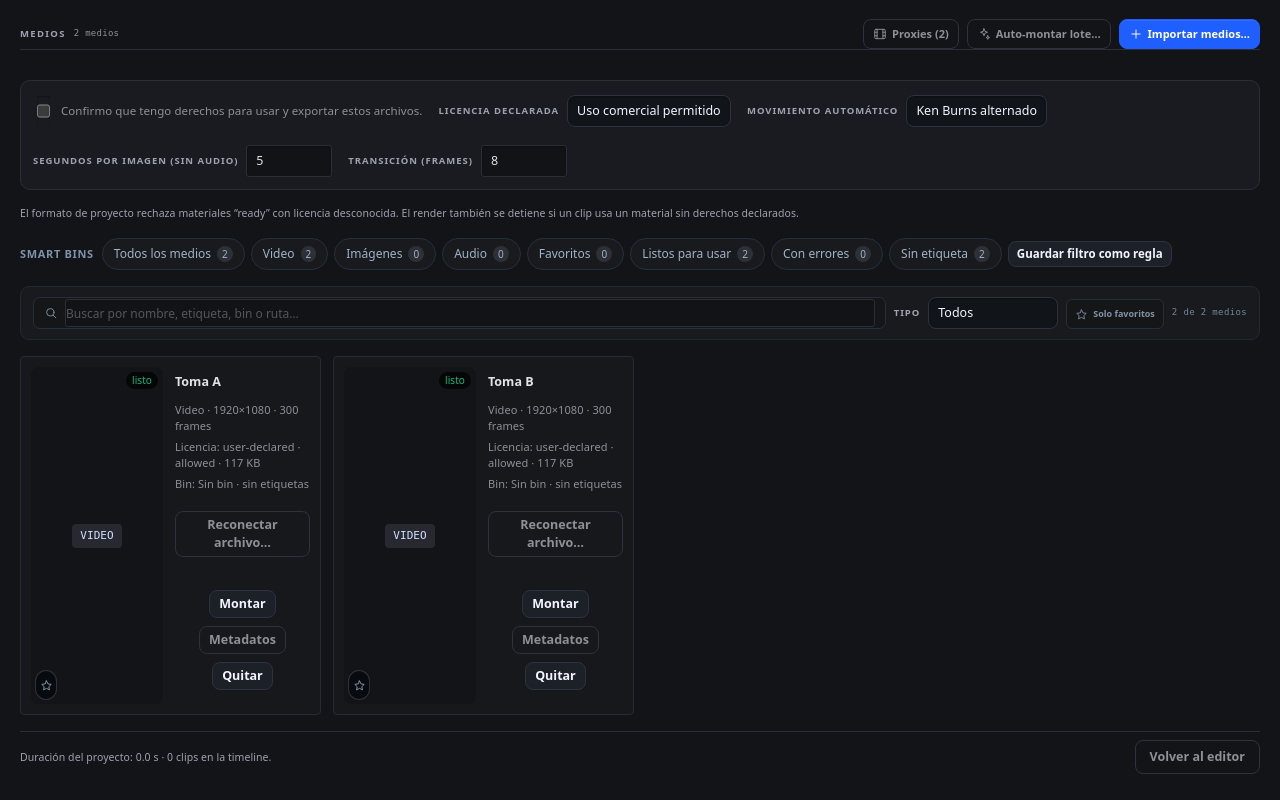
Test case: AssetsPanel · proxies por lote › crea un proxy por cada video sin proxy y lo informa
Click the button "Proxies (2)" at x=911, y=34, box [863,18,959,48]
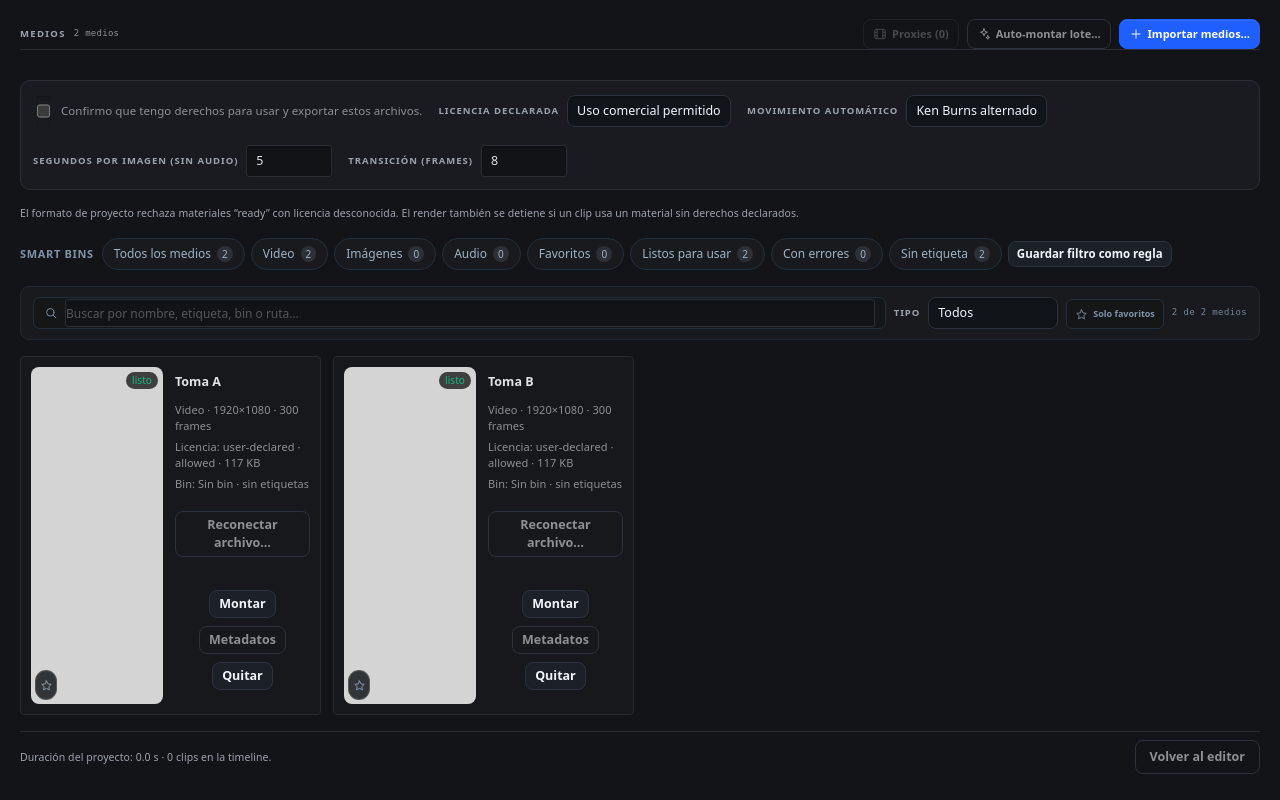
Result: the button "Proxies (0)" is disabled at [863,18,959,48]
